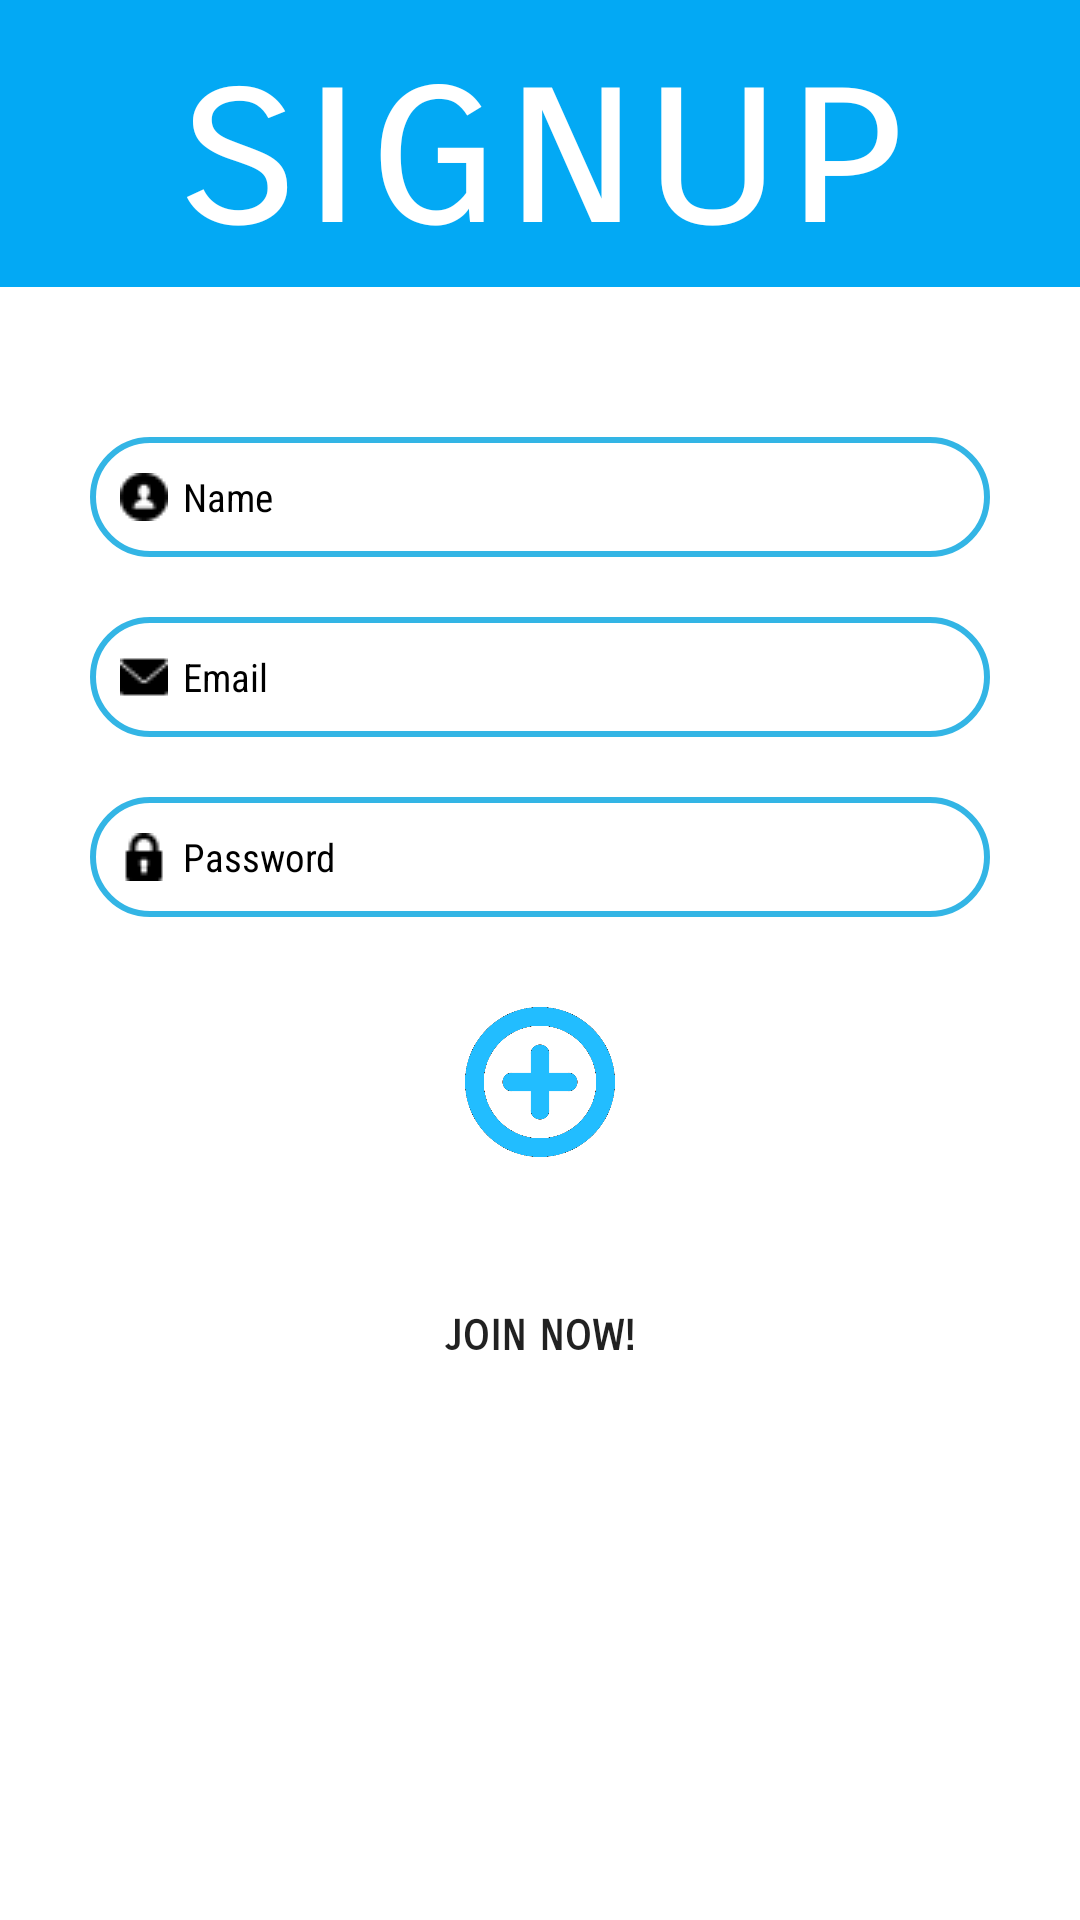

Named icons in this screenshot (1080w x 1920h) and their centers, [x,y]:
plussign: [540,1082]
